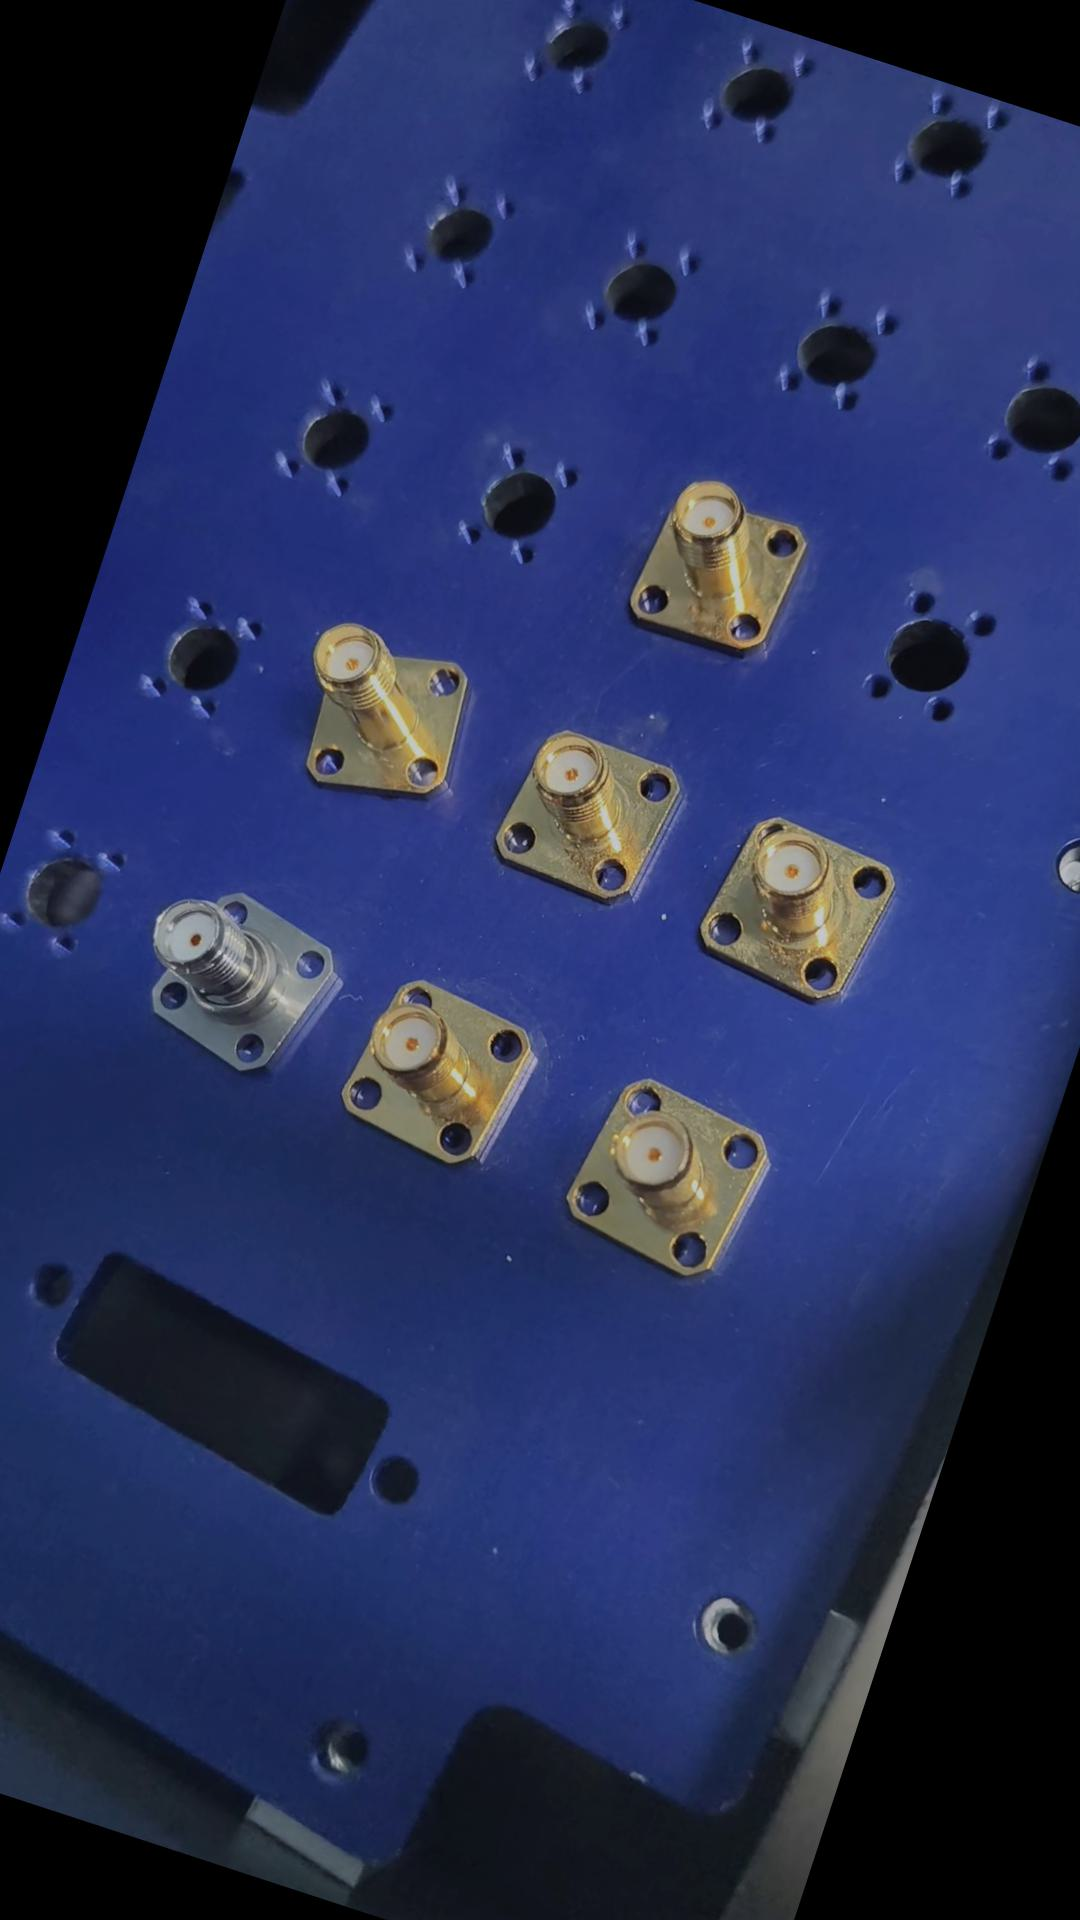SMA: (541, 1059, 783, 1300), (115, 868, 355, 1095), (324, 957, 546, 1182), (684, 796, 909, 1011), (268, 612, 485, 824), (483, 713, 694, 920), (611, 463, 823, 669)
